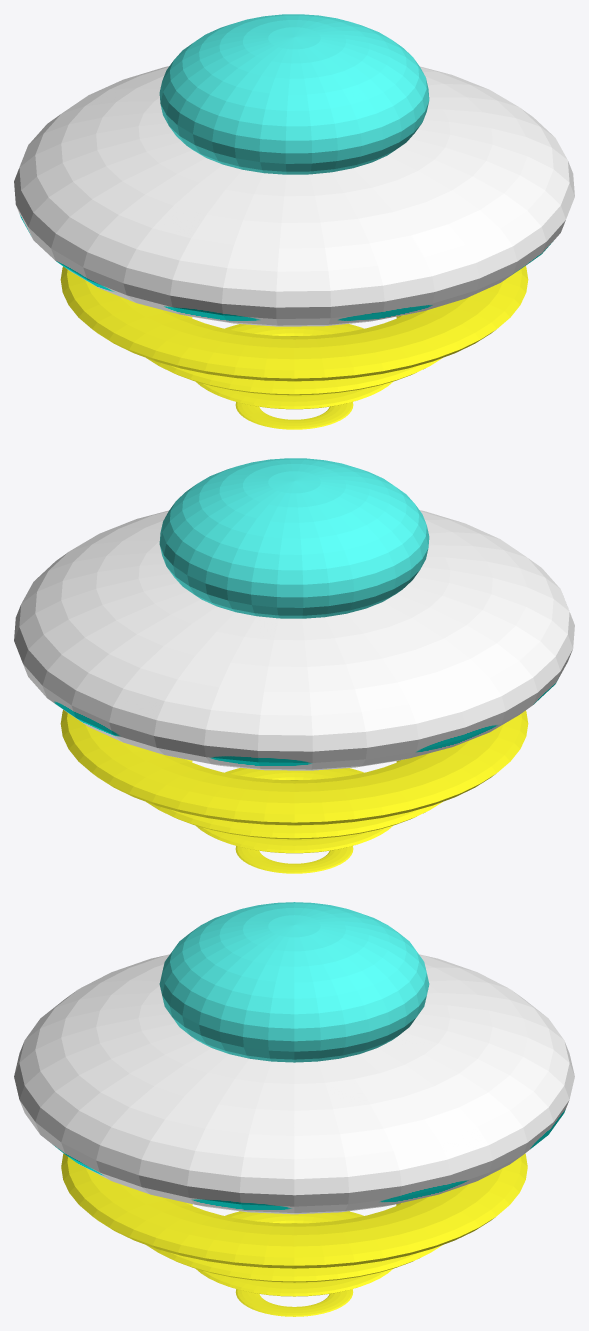
File: player.obj
3 views of the same model, one above another, from view 1: azimuth 30°, elevation 25°; view 2: azimuth 150°, elevation 25°; view 3: azimuth 270°, elevation 25° (orthographic).
Parts seen in each view (by area): view 1: 球, 球.001, トーラス, トーラス.002, トーラス.001, トーラス.003; view 2: 球, 球.001, トーラス, トーラス.002, トーラス.001, トーラス.003; view 3: 球, 球.001, トーラス, トーラス.002, トーラス.001, トーラス.003.
Part boxes in pixels (bbox=[...]): 球: bbox=[14, 66, 574, 326]; 球.001: bbox=[159, 14, 429, 174]; トーラス: bbox=[60, 266, 528, 381]; トーラス.002: bbox=[195, 324, 393, 409]; トーラス.001: bbox=[146, 315, 442, 395]; トーラス.003: bbox=[235, 402, 353, 429]; 球: bbox=[14, 510, 574, 770]; 球.001: bbox=[159, 458, 429, 618]; トーラス: bbox=[60, 710, 528, 825]; トーラス.002: bbox=[195, 768, 393, 853]; トーラス.001: bbox=[146, 759, 442, 839]; トーラス.003: bbox=[235, 846, 353, 873]; 球: bbox=[14, 954, 574, 1214]; 球.001: bbox=[159, 902, 429, 1062]; トーラス: bbox=[61, 1153, 527, 1268]; トーラス.002: bbox=[196, 1211, 392, 1296]; トーラス.001: bbox=[146, 1202, 442, 1282]; トーラス.003: bbox=[235, 1289, 353, 1316].
Size of the model in its own units: 2 by 1.45 by 2.
